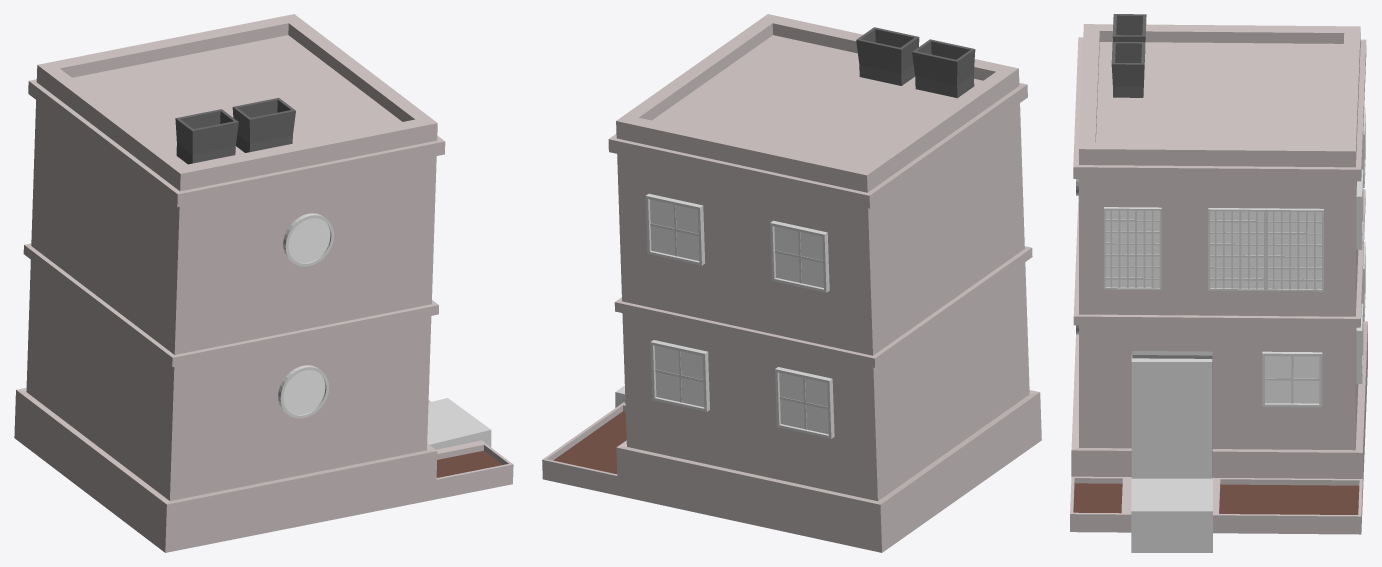
File: House.glb
3 views of the same model, side by side, from view 1: azimuth 30°, elevation 25°; view 2: azimuth 150°, elevation 25°; view 3: azimuth 270°, elevation 25° (orthographic). The views are drawn at different scales.
Visible parts, largest first — view 1: Cube, Cube.003, Cylinder.001, Cylinder.002; view 2: Cube, jendela_kn_2, jendela_km_1, jendela_kn_4, jendela_KN3; view 3: Cube, Cube.002, Cube.003, jendela_t_3, jendela_t_1, jendela_t_2, jendela_d, pintu, jendela_KN3, jendela_km_1.
Part boxes in pixels (x1=…): Cube: x1=14, y1=14, x2=513, y2=552; Cube.003: x1=427, y1=398, x2=491, y2=449; Cylinder.001: x1=278, y1=365, x2=328, y2=418; Cylinder.002: x1=283, y1=213, x2=333, y2=266; Cube: x1=542, y1=14, x2=1041, y2=552; jendela_kn_2: x1=775, y1=367, x2=834, y2=438; jendela_km_1: x1=650, y1=340, x2=709, y2=411; jendela_kn_4: x1=770, y1=220, x2=829, y2=292; jendela_KN3: x1=645, y1=193, x2=705, y2=265; Cube: x1=1070, y1=14, x2=1367, y2=534; Cube.002: x1=1131, y1=355, x2=1212, y2=478; Cube.003: x1=1131, y1=478, x2=1212, y2=552; jendela_t_3: x1=1266, y1=208, x2=1323, y2=291; jendela_t_1: x1=1103, y1=207, x2=1161, y2=290; jendela_t_2: x1=1208, y1=208, x2=1265, y2=290; jendela_d: x1=1262, y1=351, x2=1322, y2=407; pintu: x1=1132, y1=351, x2=1212, y2=478; jendela_KN3: x1=1356, y1=169, x2=1363, y2=249; jendela_km_1: x1=1356, y1=303, x2=1363, y2=383.
Bounding box in the file's own units: 8.46 × 9.68 × 6.56.
